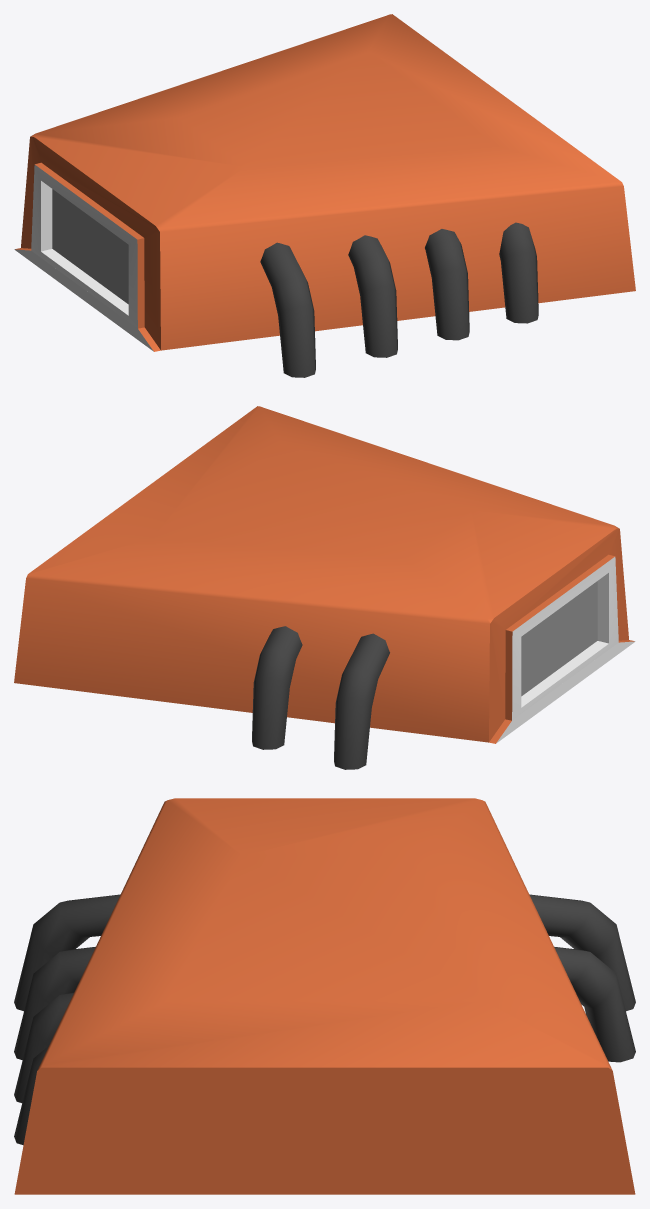
File: Machine_9.fbx
The picture shows the model from 3 angles, top to bottom: view 1: azimuth 30°, elevation 25°; view 2: azimuth 150°, elevation 25°; view 3: azimuth 270°, elevation 25°; orthographic projection. The views are drawn at different scales.
Visible parts, largest first — view 1: Machine_9; view 2: Machine_9; view 3: Machine_9.
Boxes of the visible parts, x1=… form: Machine_9: x1=14, y1=14, x2=635, y2=377; Machine_9: x1=14, y1=406, x2=635, y2=769; Machine_9: x1=14, y1=798, x2=635, y2=1194.
Bounding box in the file's own units: 1081 × 328 × 1107.
